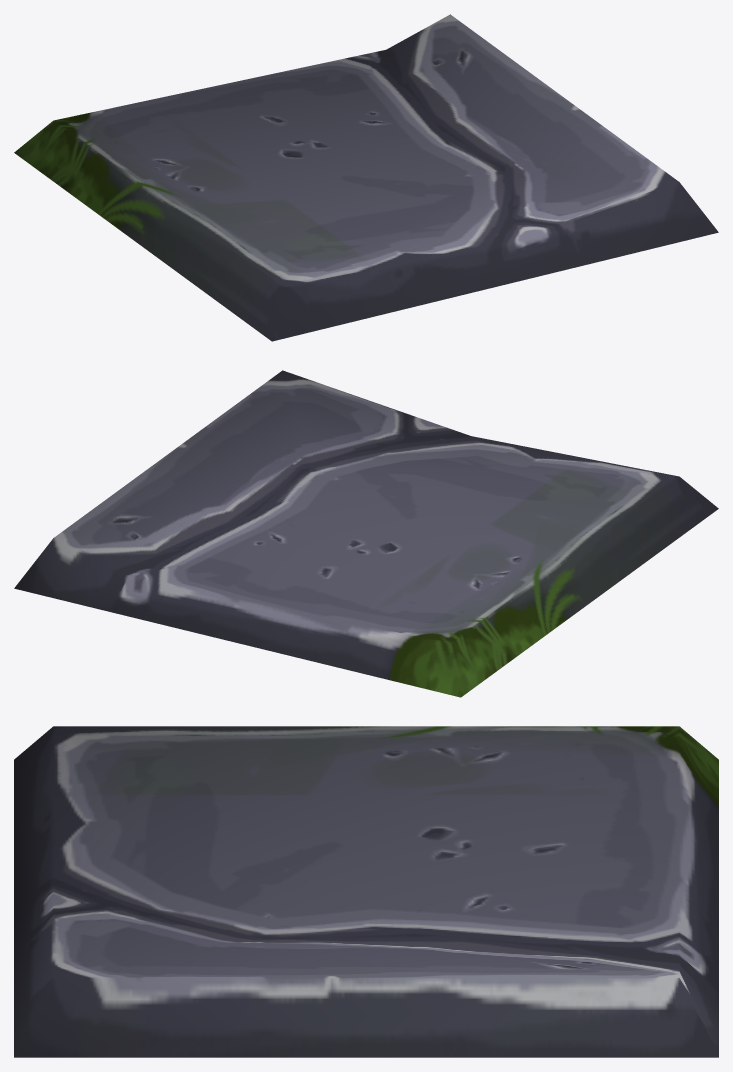
Rendered from MOD_Floor_01_O_singlestone_4.fbx.
The picture shows the model from 3 angles, top to bottom: view 1: azimuth 30°, elevation 25°; view 2: azimuth 150°, elevation 25°; view 3: azimuth 270°, elevation 25°; orthographic projection. The views are drawn at different scales.
Visible parts, largest first — view 1: MOD_Floor_01_O_singlestone_4; view 2: MOD_Floor_01_O_singlestone_4; view 3: MOD_Floor_01_O_singlestone_4.
Part boxes in pixels (bbox=[...]): MOD_Floor_01_O_singlestone_4: bbox=[14, 14, 718, 341]; MOD_Floor_01_O_singlestone_4: bbox=[14, 370, 718, 697]; MOD_Floor_01_O_singlestone_4: bbox=[14, 726, 718, 1057].
Bounding box in the file's own units: 100 × 9.83 × 100.
